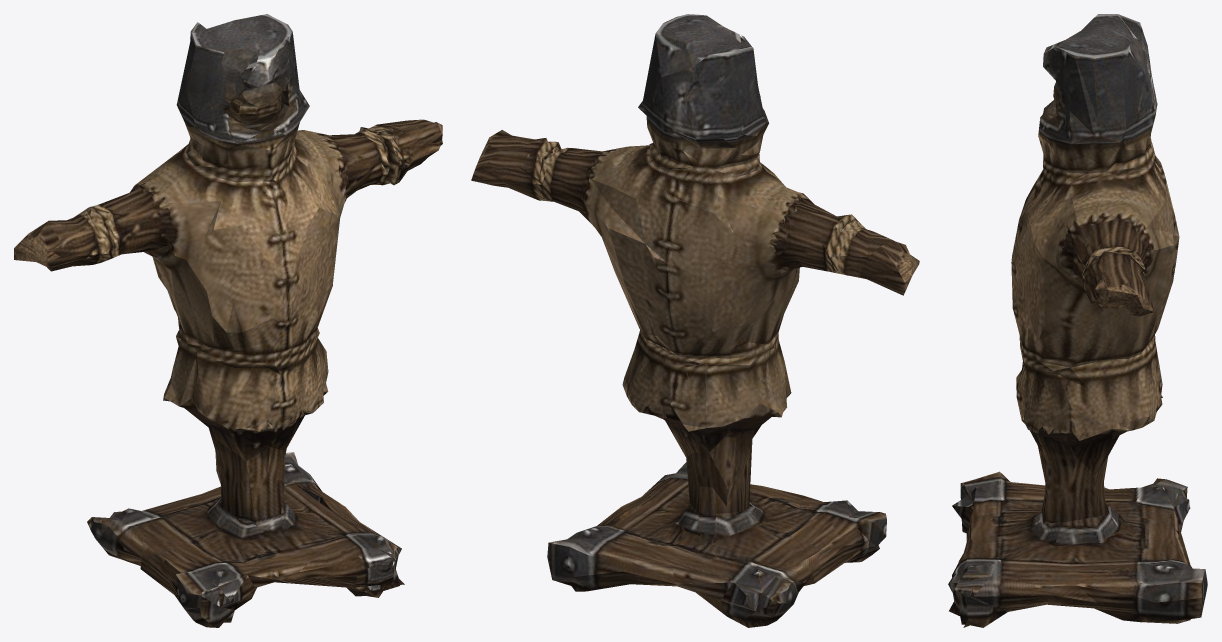
File: war_dummy.glb
The picture shows the model from 3 angles, left to right: view 1: azimuth 30°, elevation 25°; view 2: azimuth 150°, elevation 25°; view 3: azimuth 270°, elevation 25°; orthographic projection. The views are drawn at different scales.
Parts seen in each view (by area): view 1: output_unwrapped; view 2: output_unwrapped; view 3: output_unwrapped.
Part boxes in pixels (box(x1,y1,x2,y2)): output_unwrapped: box(14, 14, 442, 627); output_unwrapped: box(471, 14, 919, 627); output_unwrapped: box(948, 14, 1207, 627).
Bounding box in the file's own units: 1.54 × 1.88 × 0.8044.
1 material, 1 textured.
